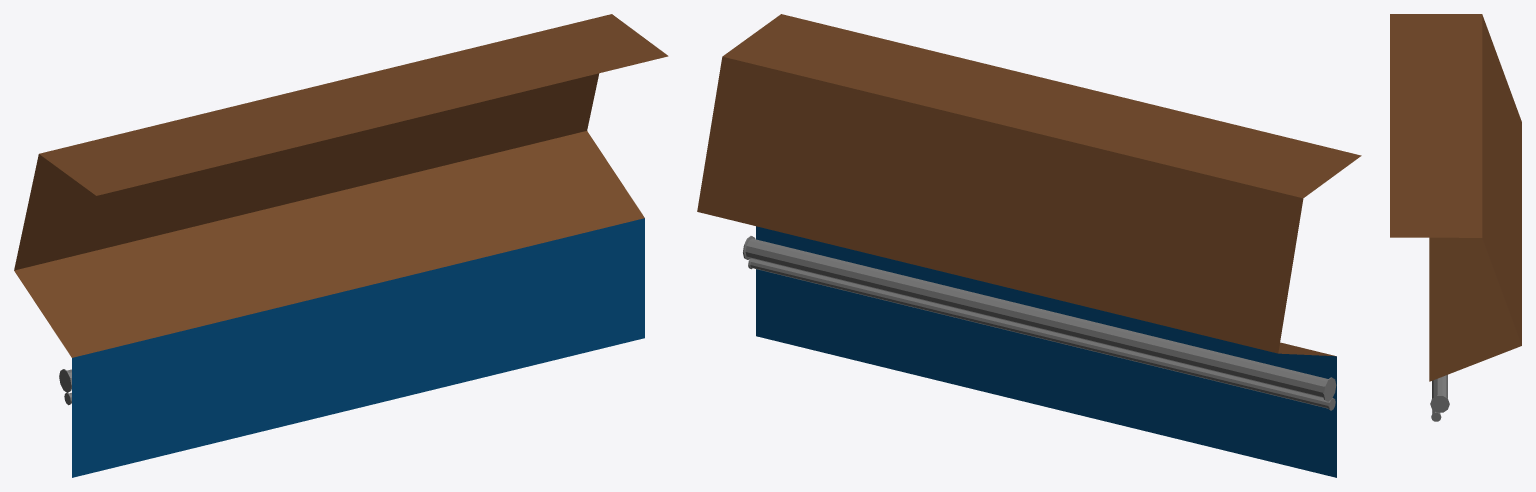
The model's file is Walls.fbx.
3 renders of one model, left to right at view 1: azimuth 30°, elevation 25°; view 2: azimuth 150°, elevation 25°; view 3: azimuth 270°, elevation 25°, orthographic. The views are drawn at different scales.
Visible parts, largest first — view 1: Walls; view 2: Walls, Cylinder.026; view 3: Walls, Cylinder.026.
Boxes of the visible parts, left/top/right/bottom form: Walls: left=14, top=14, right=668, bottom=477; Walls: left=697, top=14, right=1361, bottom=477; Cylinder.026: left=743, top=236, right=1336, bottom=410; Walls: left=1390, top=14, right=1521, bottom=381; Cylinder.026: left=1430, top=375, right=1449, bottom=421.
Bounding box in the file's own units: 4 × 2 × 0.9961.
Materials: 2 (1 with a texture image).
